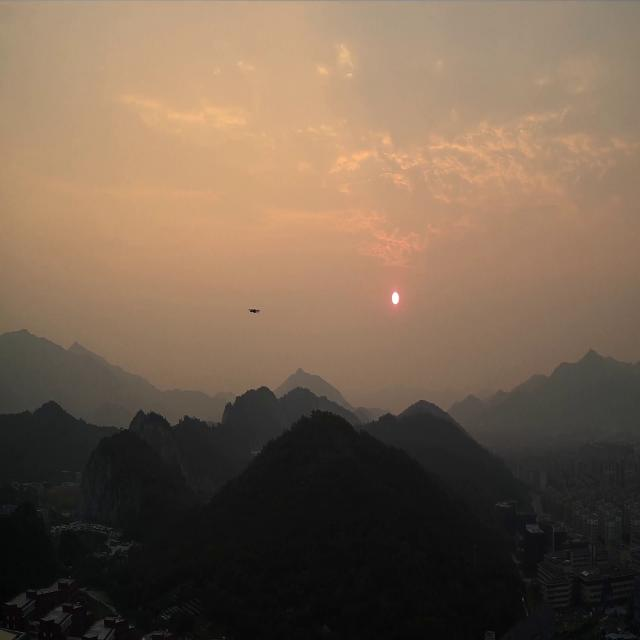UAV: (247, 307, 261, 314)
